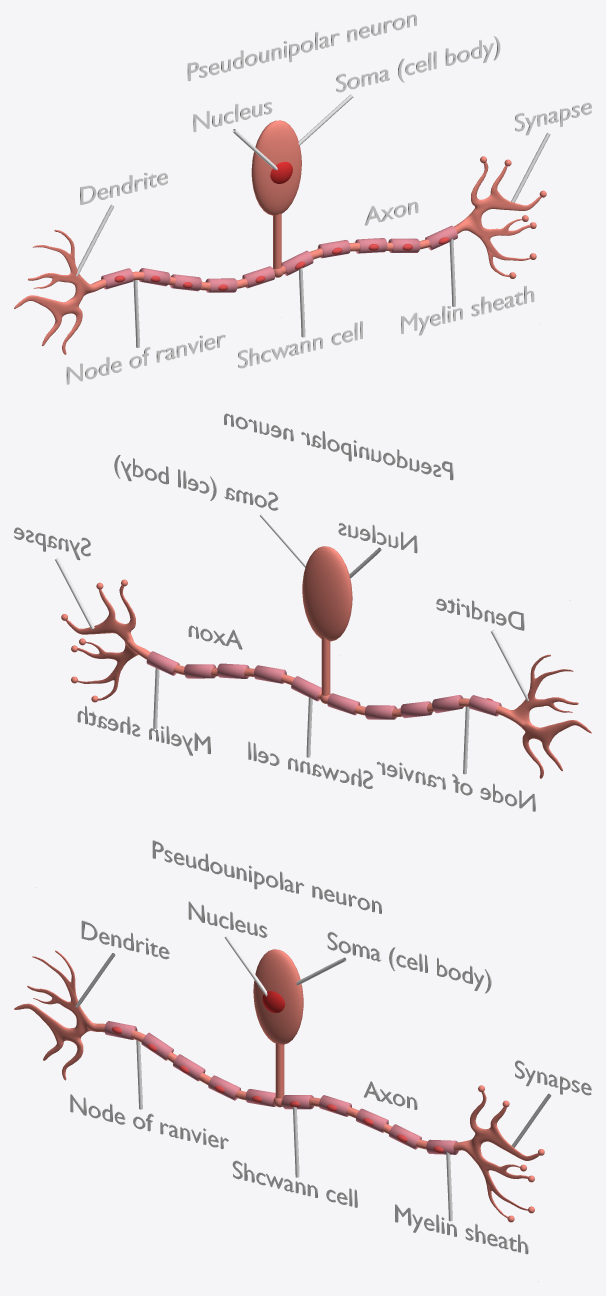
Rendered from ekpol.glb.
3 views of the same model, one above another, from view 1: azimuth 30°, elevation 25°; view 2: azimuth 150°, elevation 25°; view 3: azimuth 330°, elevation 25° (orthographic).
Bounding box in the file's own units: 23.57 × 14.17 × 1.72.
